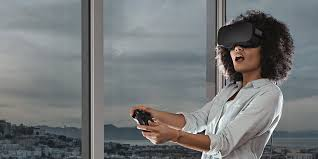oculus: (217, 23, 268, 50)
